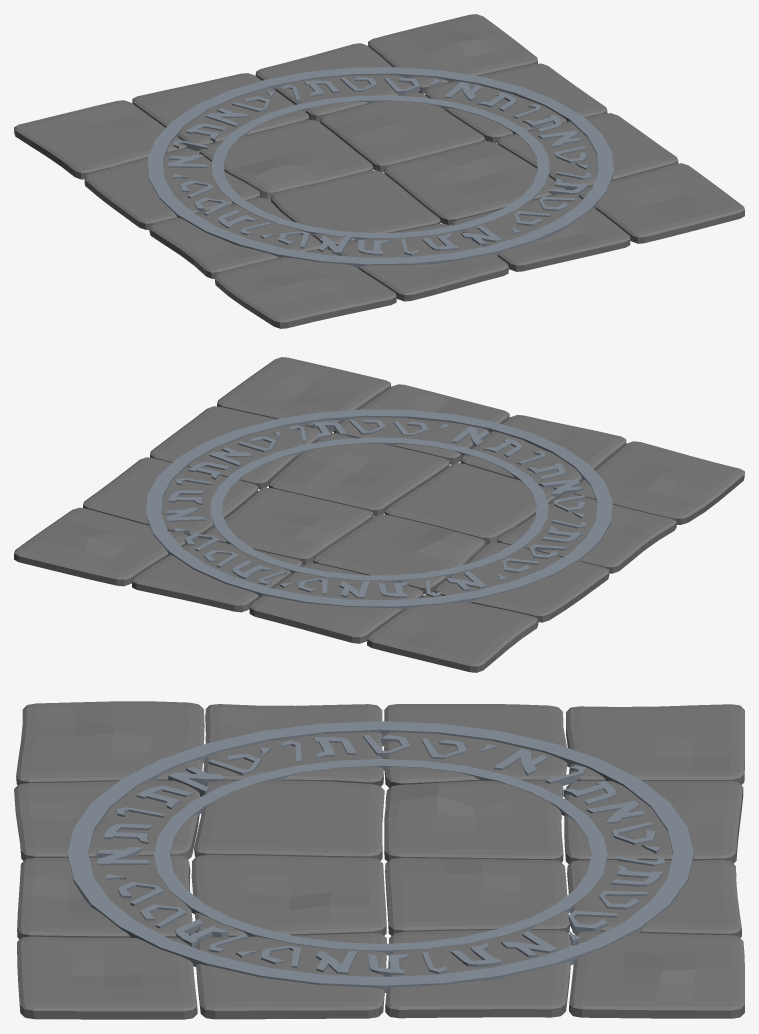
File: Ckeckpoint_etein.fbx
3 views of the same model, one above another, from view 1: azimuth 30°, elevation 25°; view 2: azimuth 150°, elevation 25°; view 3: azimuth 270°, elevation 25° (orthographic). The views are drawn at different scales.
Visible parts, largest first — view 1: Cube.002, Cylinder; view 2: Cube.002, Cylinder; view 3: Cube.002, Cylinder.
Boxes of the visible parts, <box> form: Cube.002: <box>14,14,744,328</box>; Cylinder: <box>147,67,613,268</box>; Cube.002: <box>14,357,744,672</box>; Cylinder: <box>146,409,612,610</box>; Cube.002: <box>14,701,744,1019</box>; Cylinder: <box>67,721,693,992</box>.
Size of the model in its own units: 819 by 25.88 by 817.
